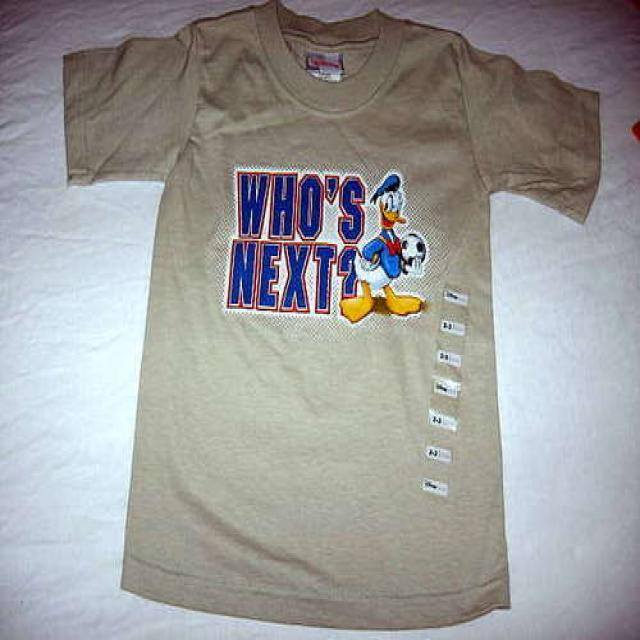T-shirt: (63, 3, 605, 628)
